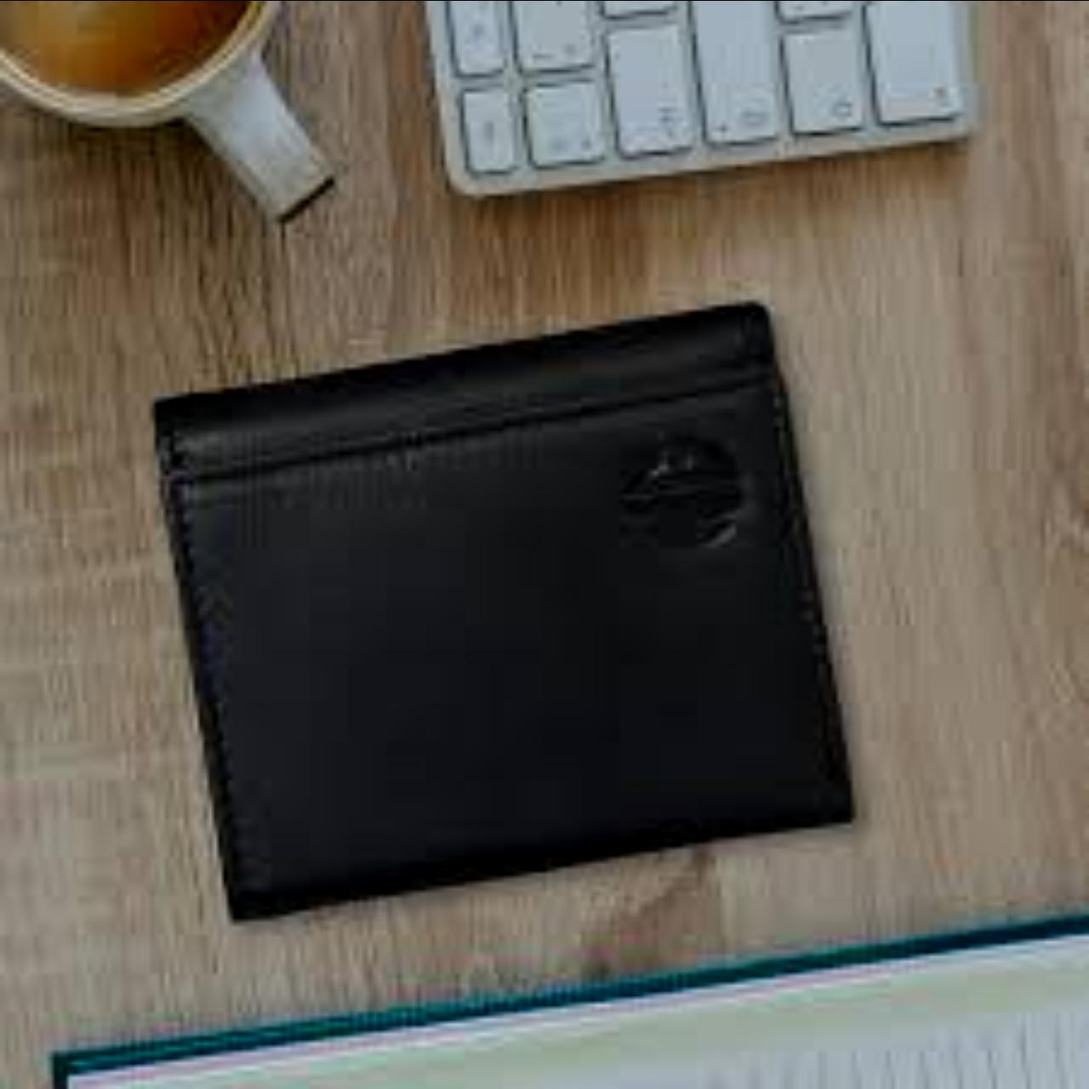wallet: (97, 281, 876, 944)
